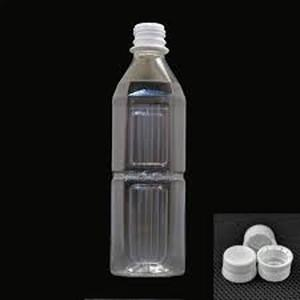Plastic: (109, 21, 190, 281)
